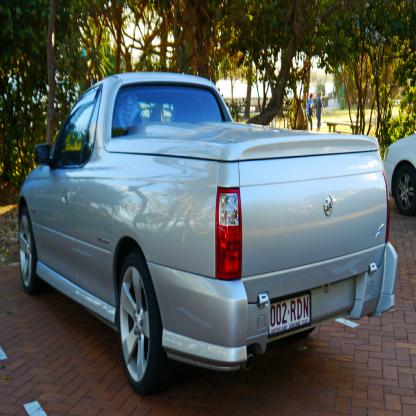Car: (18, 71, 398, 395), (383, 128, 415, 218)
Truck: (17, 71, 398, 396)
